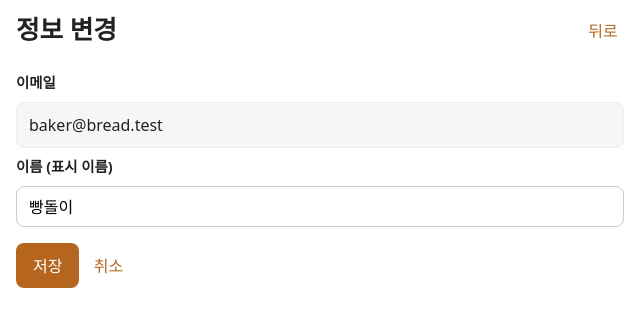
Test: ProfileEdit page (정보 변경 — display name only) › shows a Korean-mapped error when the update fails
The width and height of the screenshot is (641, 335).
Replace the text in the field labelled "이름 (표시 이름)" with "빵순이" at (320, 206), box x1=16 y1=186 x2=624 y2=227
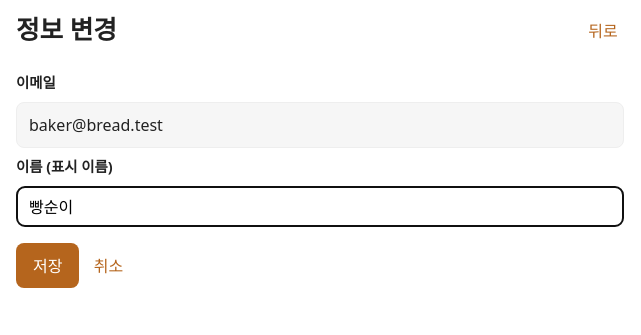
Click the button "저장" at (48, 265), box x1=16 y1=243 x2=80 y2=288
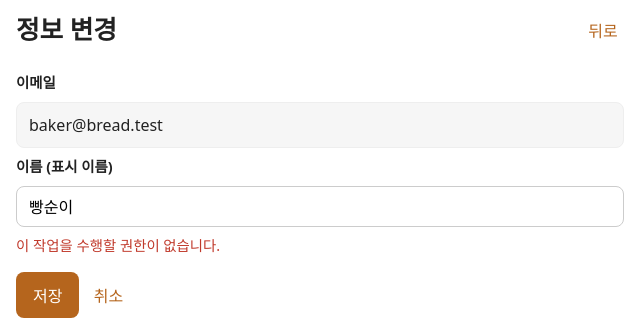
Result: the text "이 작업을 수행할 권한이 없습니다." is shown at x1=16 y1=236 x2=220 y2=255
